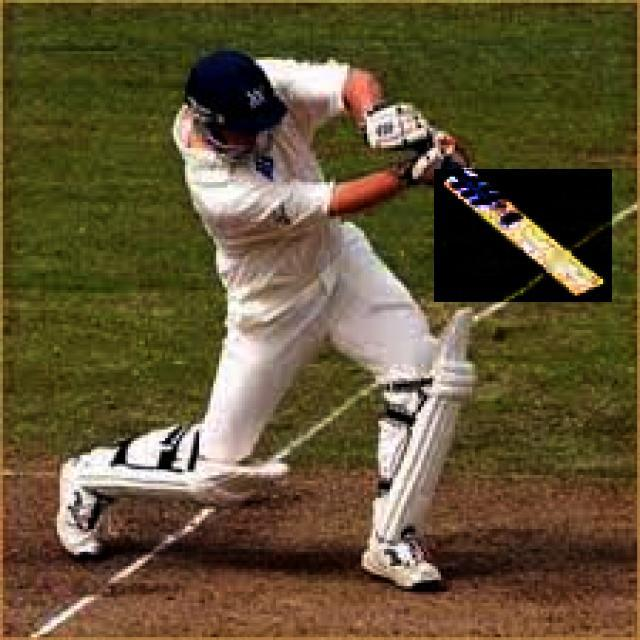bat: (434, 168, 614, 303)
toe: (582, 280, 606, 301)
